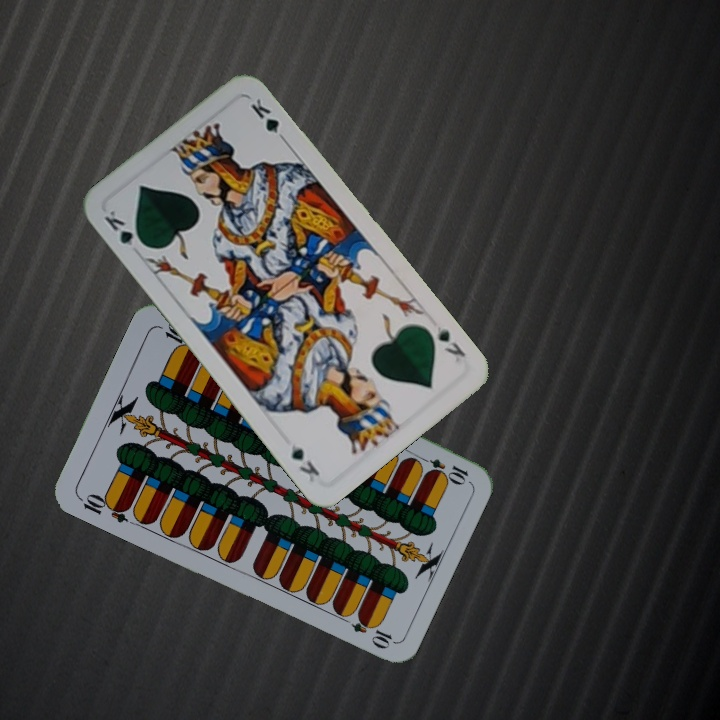E10: (74, 489, 133, 526), (413, 452, 471, 486)
GK: (100, 206, 149, 252), (432, 322, 469, 366)
